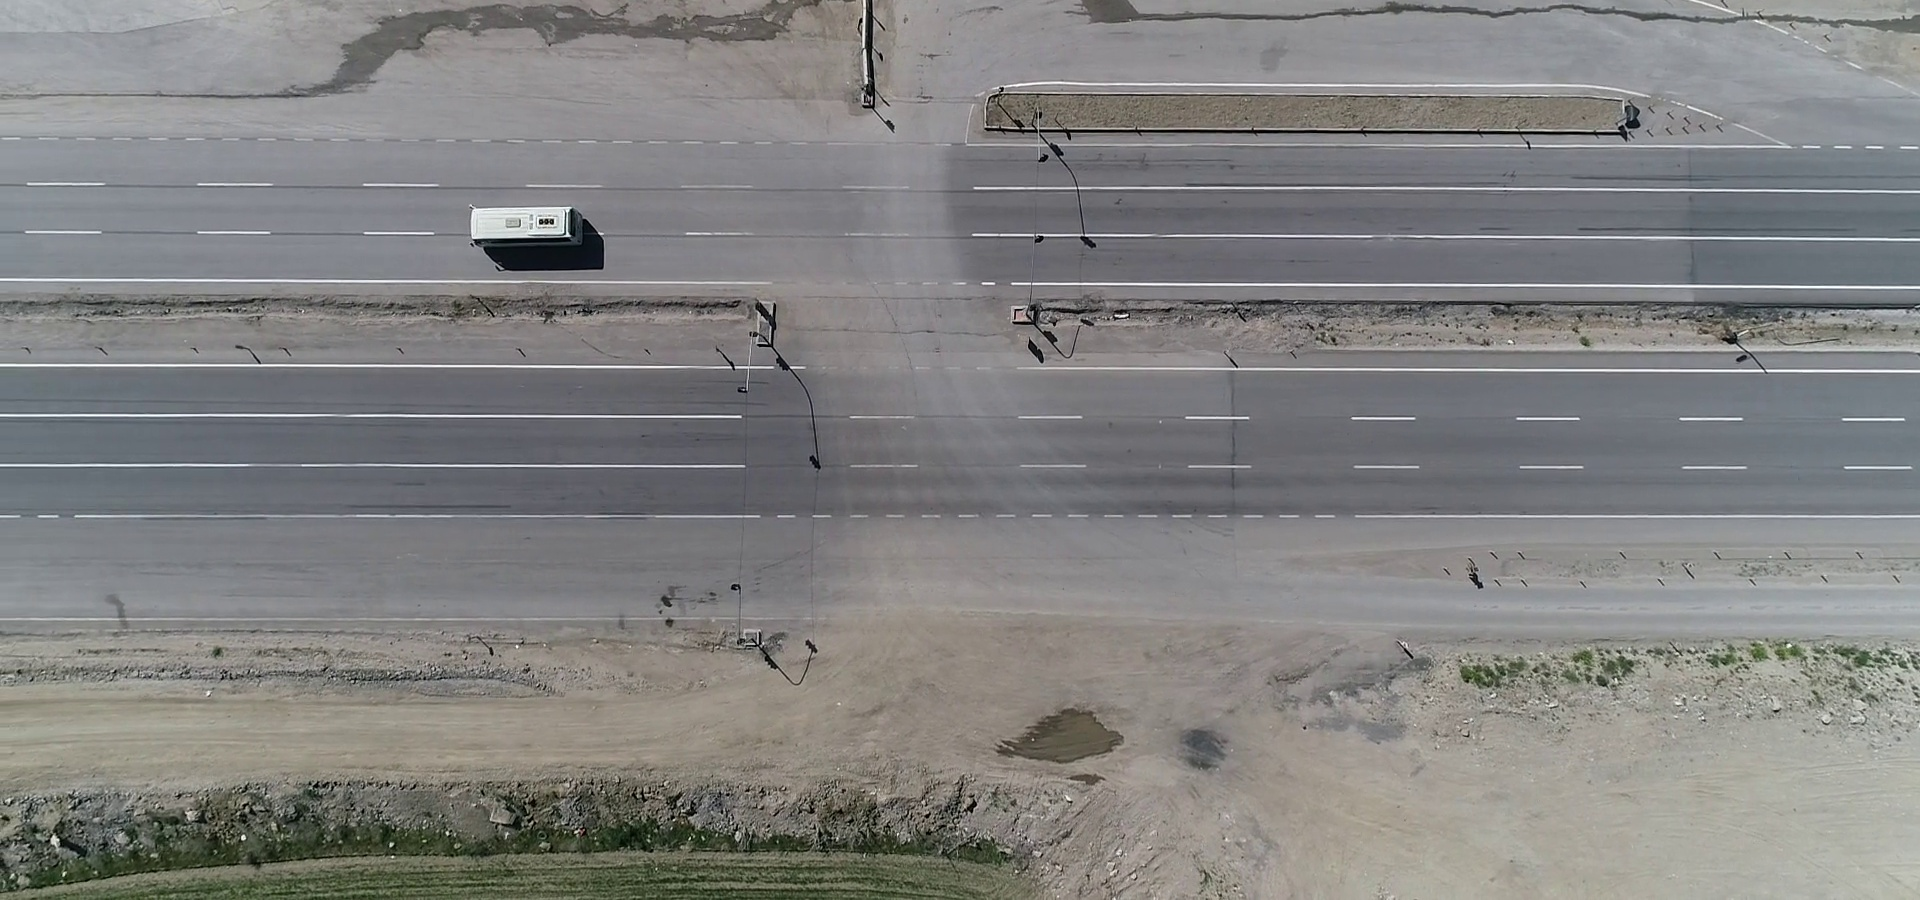otobus: (464, 197, 587, 244)
